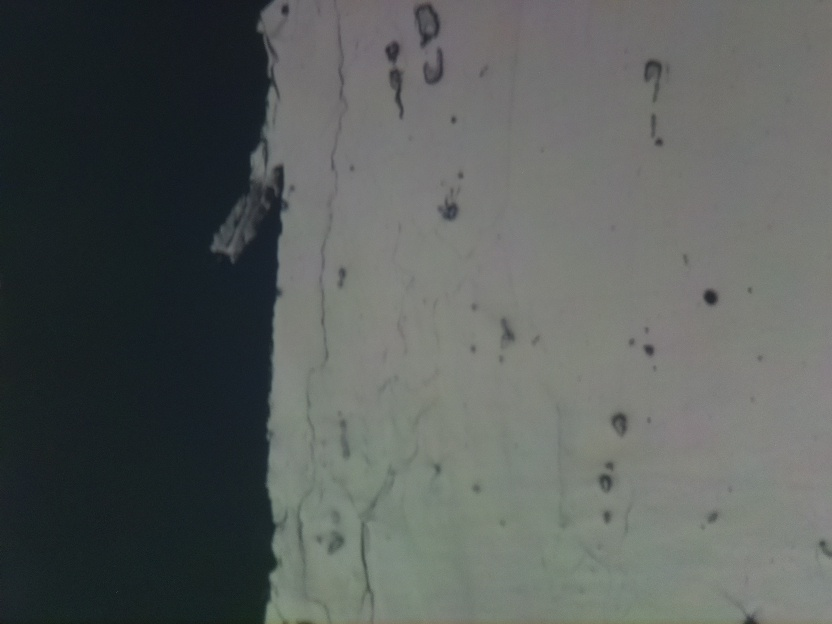crack: (0, 0, 285, 624)
